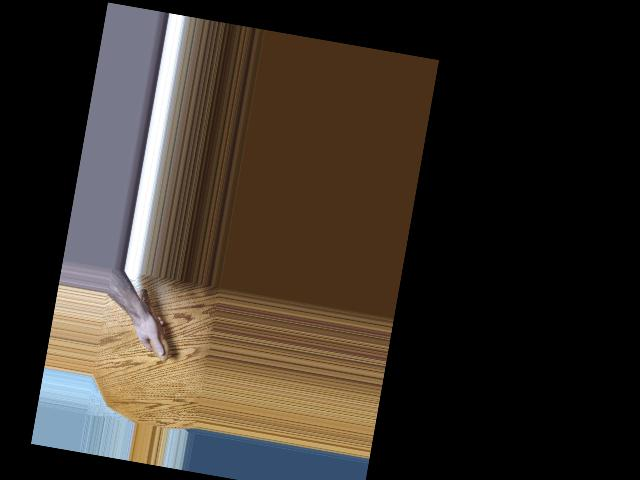sweet_potato: (127, 276, 181, 363)
